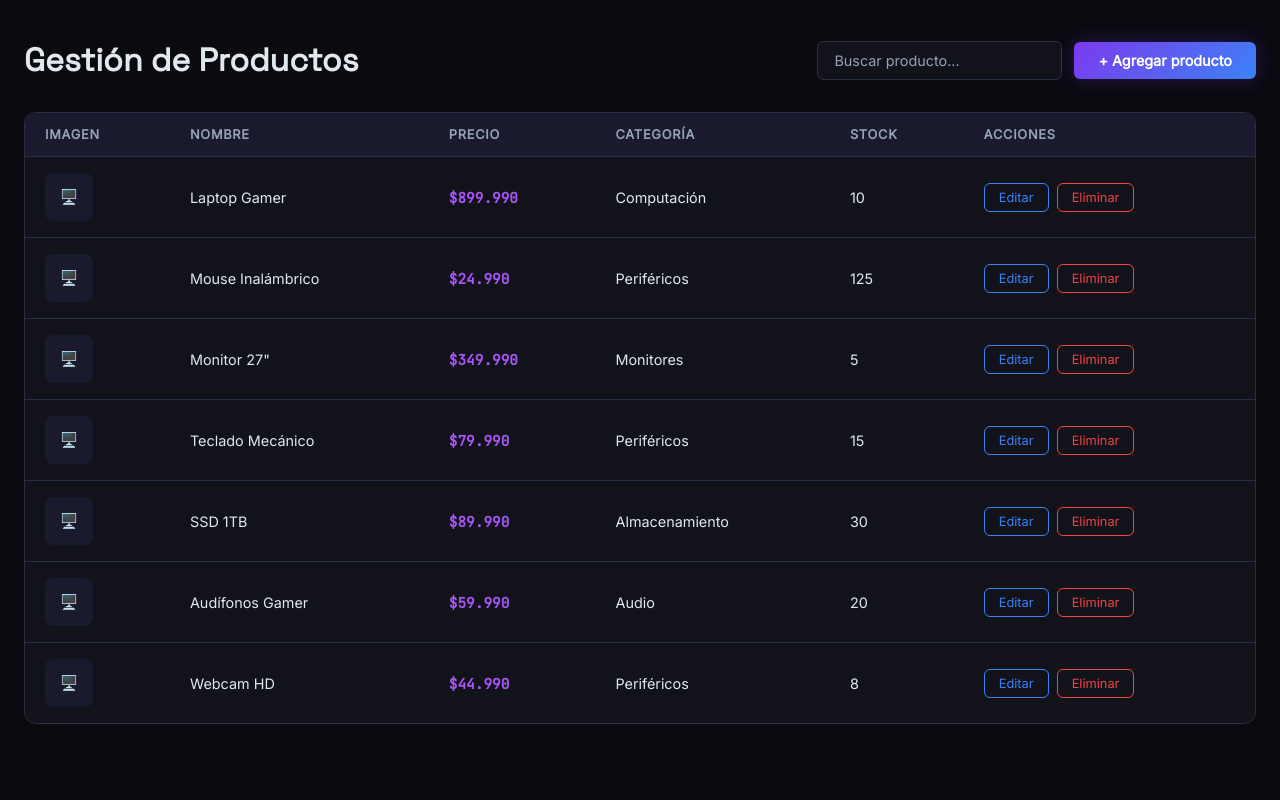
Scenario: HU-ADMIN-01 · Gestión de Productos › CA4: al hacer clic en editar abre modal con datos del producto
Click the button with test id "btn-editar-1": (1016, 197) top-left (984, 182), bottom-right (1049, 212)
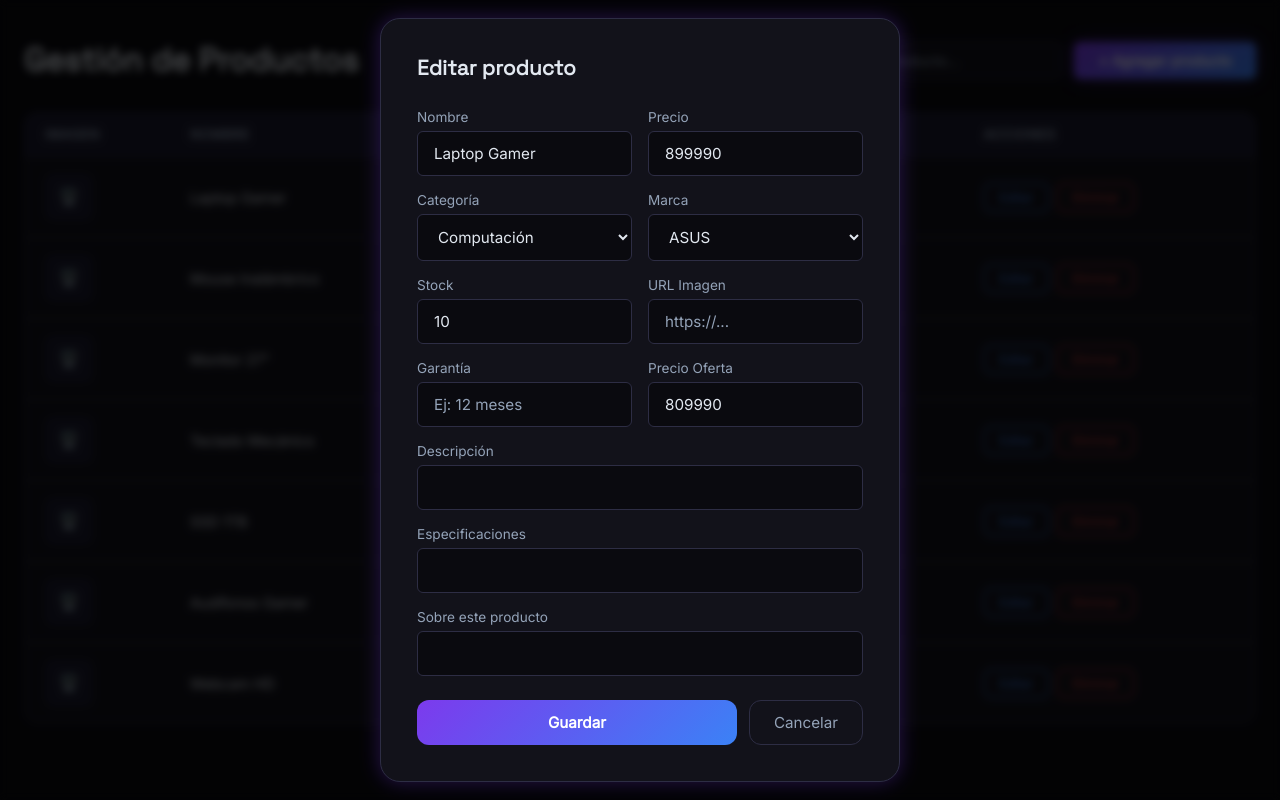
Now the element with test id "modal-producto" is shown, box top-left (380, 18), bottom-right (900, 782)
Now the field with test id "input-nombre" holds "Laptop Gamer", box top-left (417, 131), bottom-right (632, 176)
